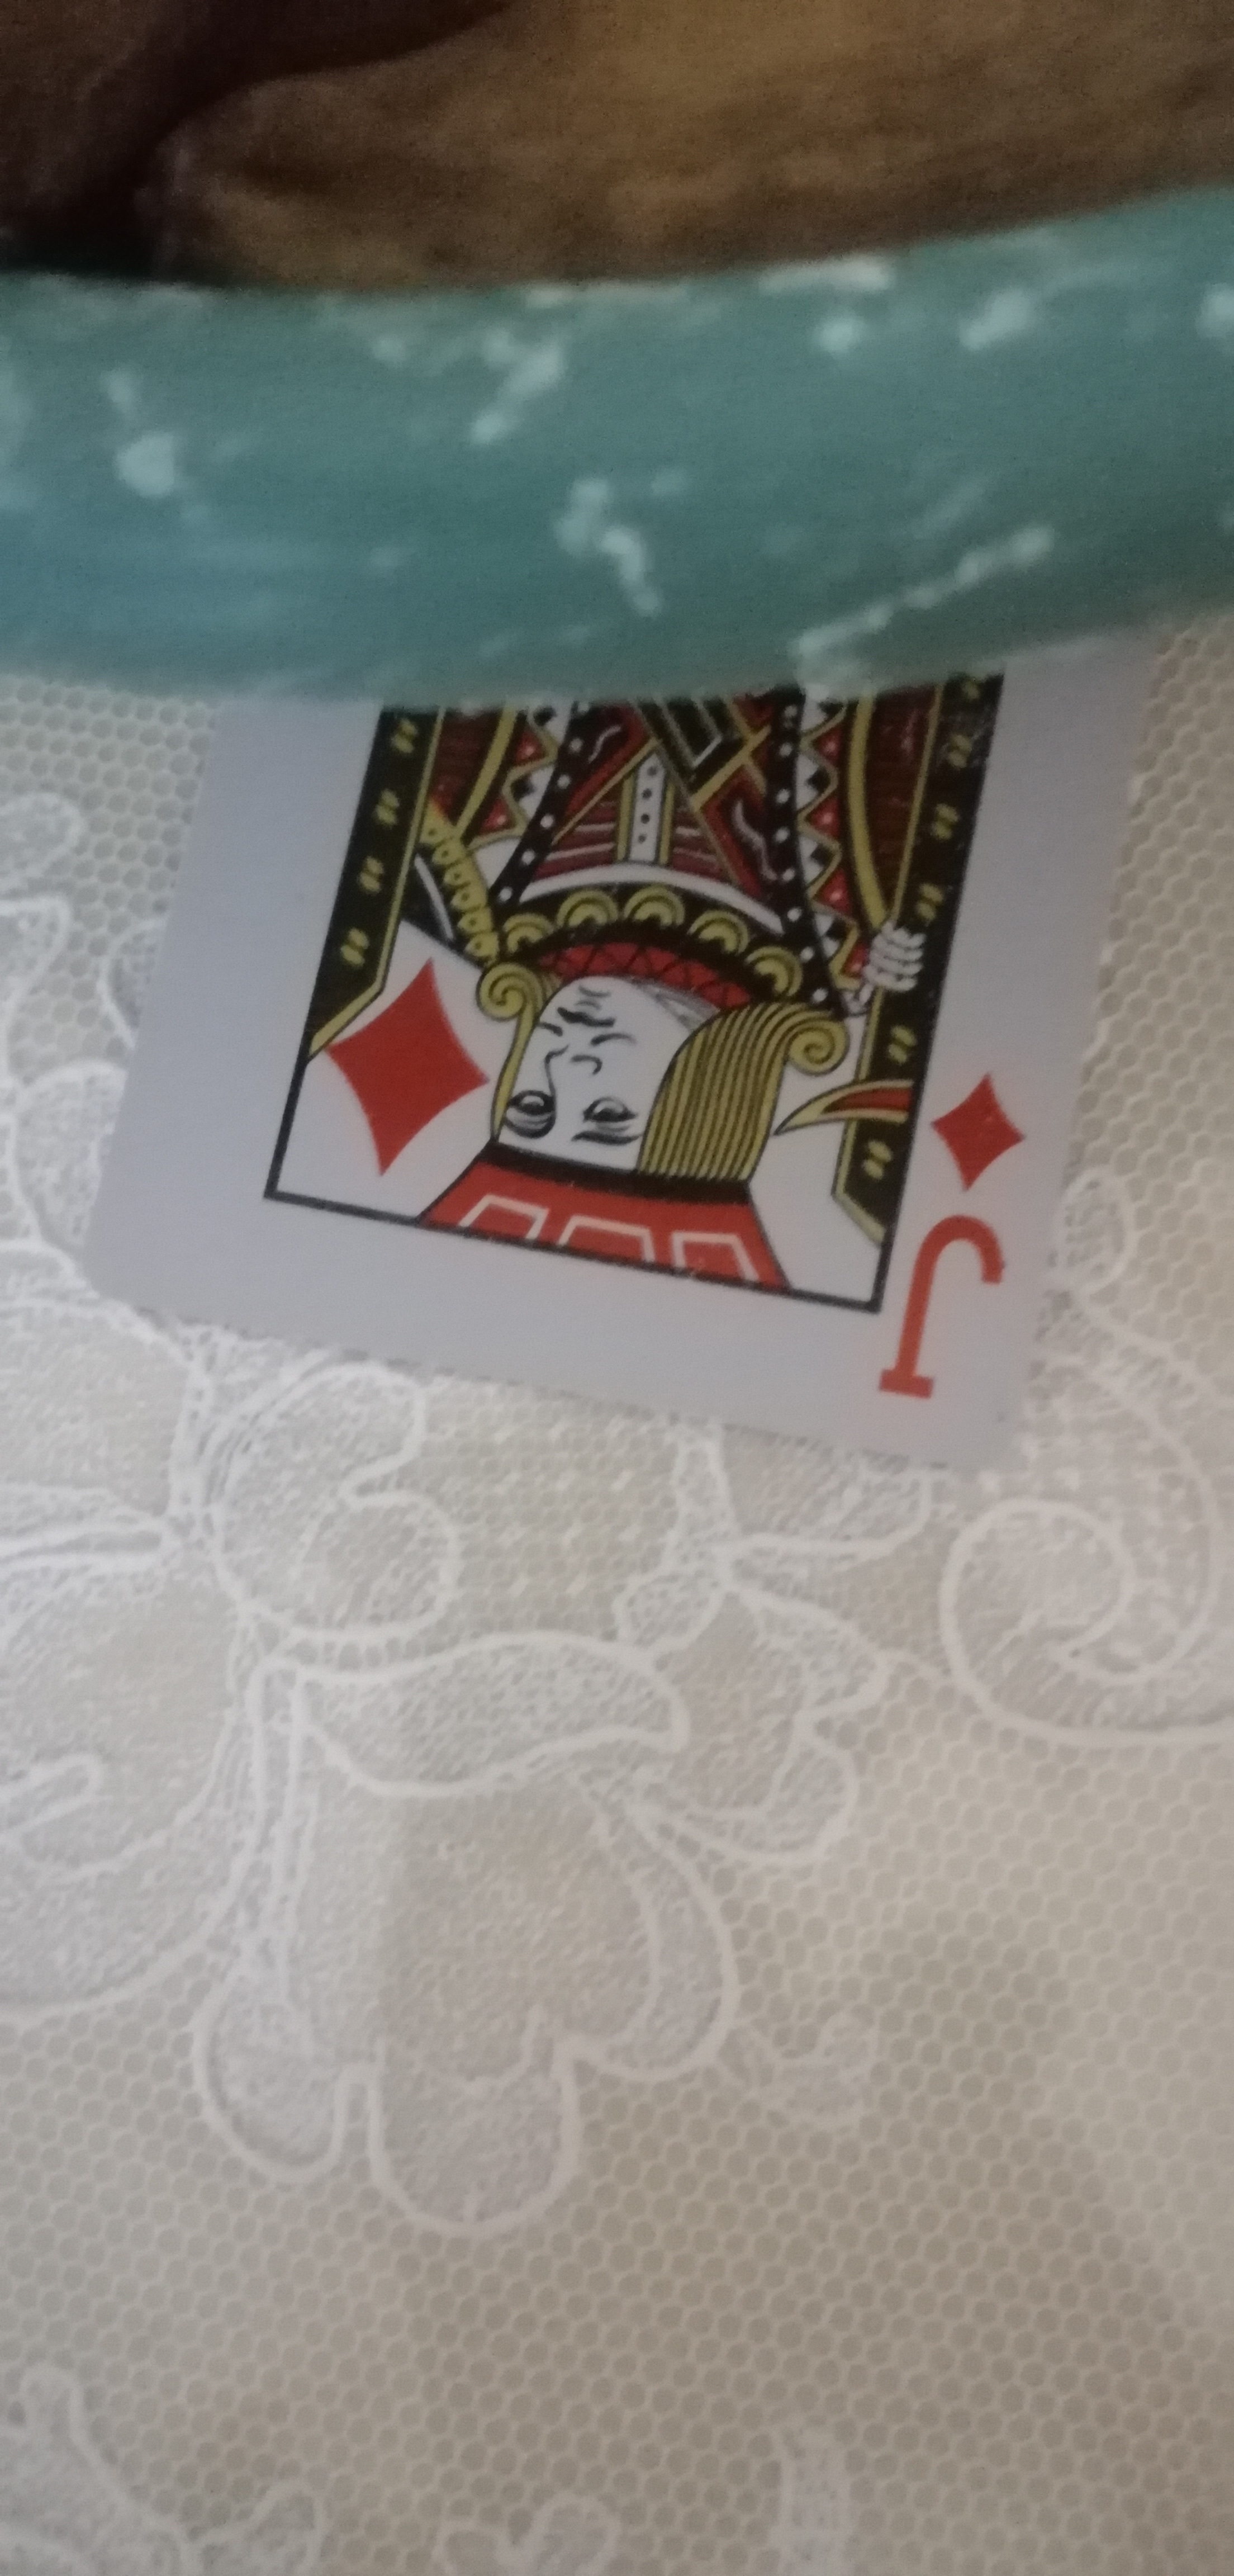jack: (112, 623, 1126, 1505)
